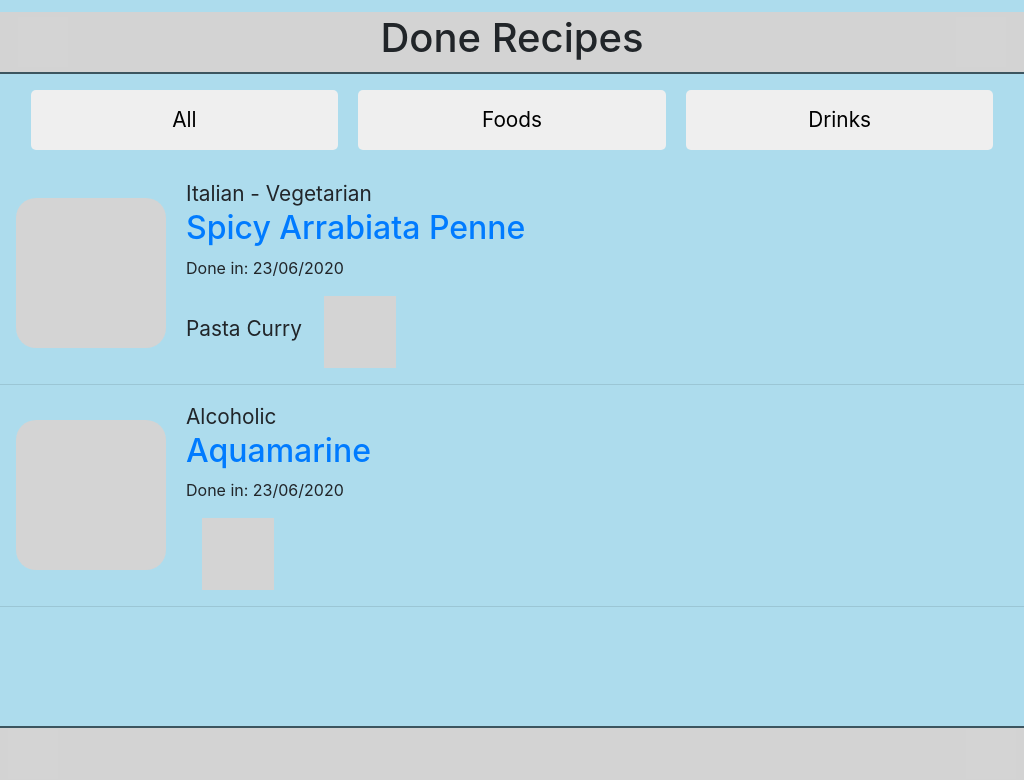
it: Testa a página Done Recipes › Renderiza todos os elementos corretamente
Click the button "All": click(184, 120) [31,90,338,150]
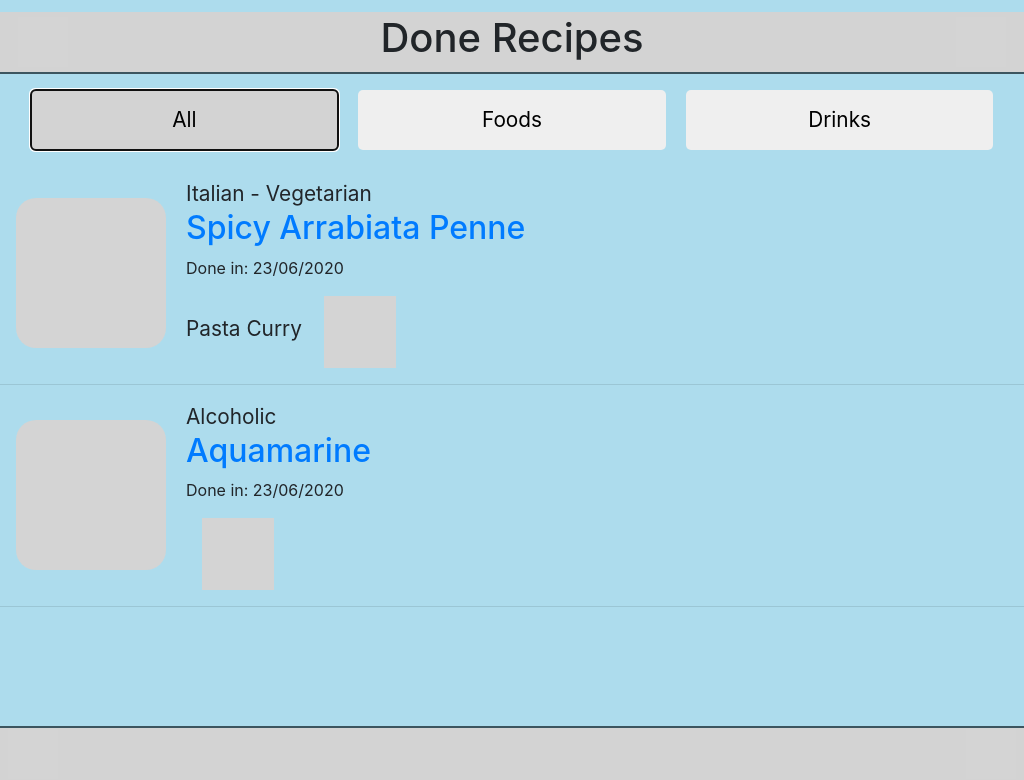
Click the button "Foods": click(512, 120) [358,90,666,150]
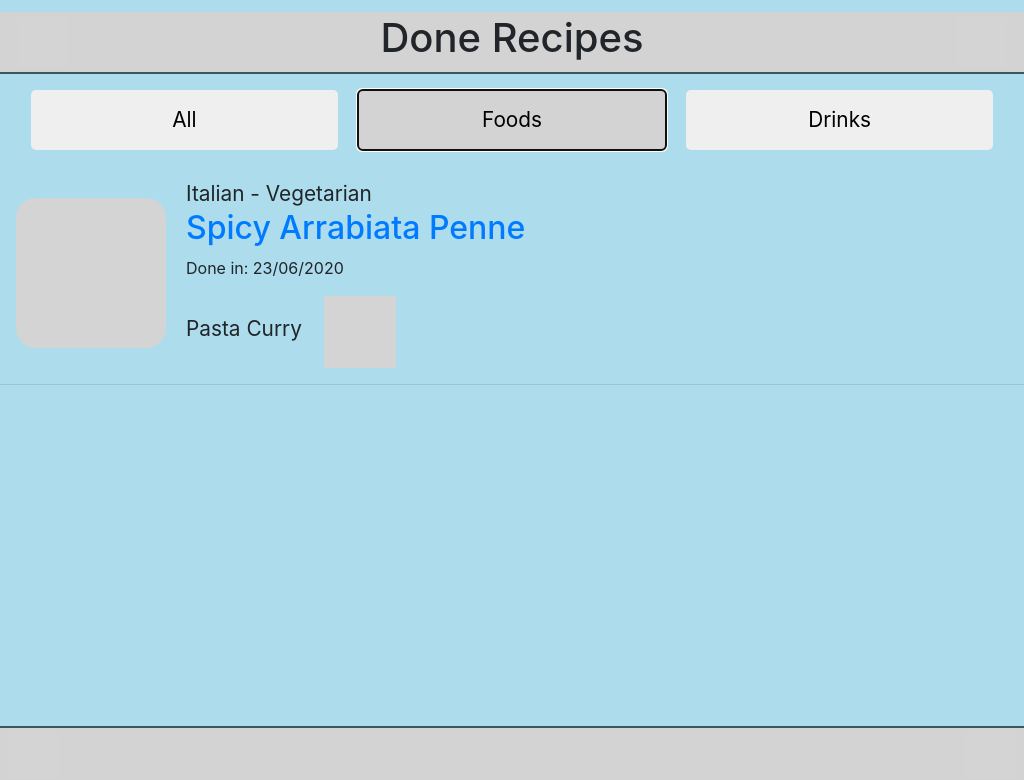
Result: the link "Aquamarine" is gone
Click the button "Drinks": click(840, 120) [686,90,993,150]
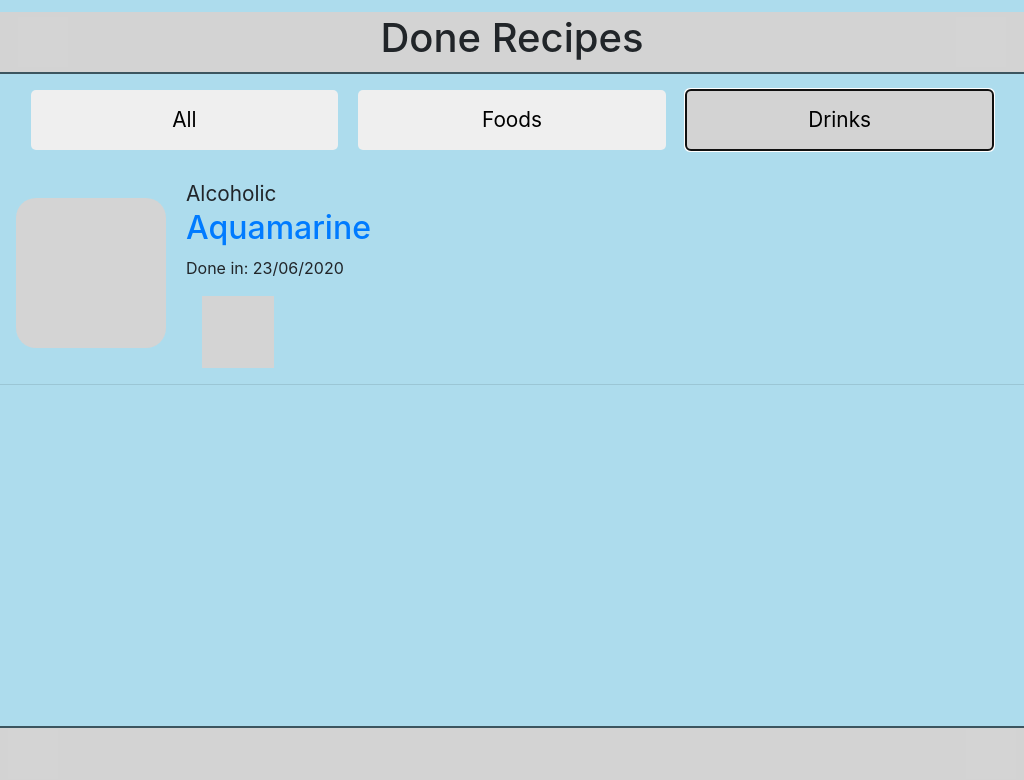
Result: the link "Spicy Arrabiata Penne" is gone
